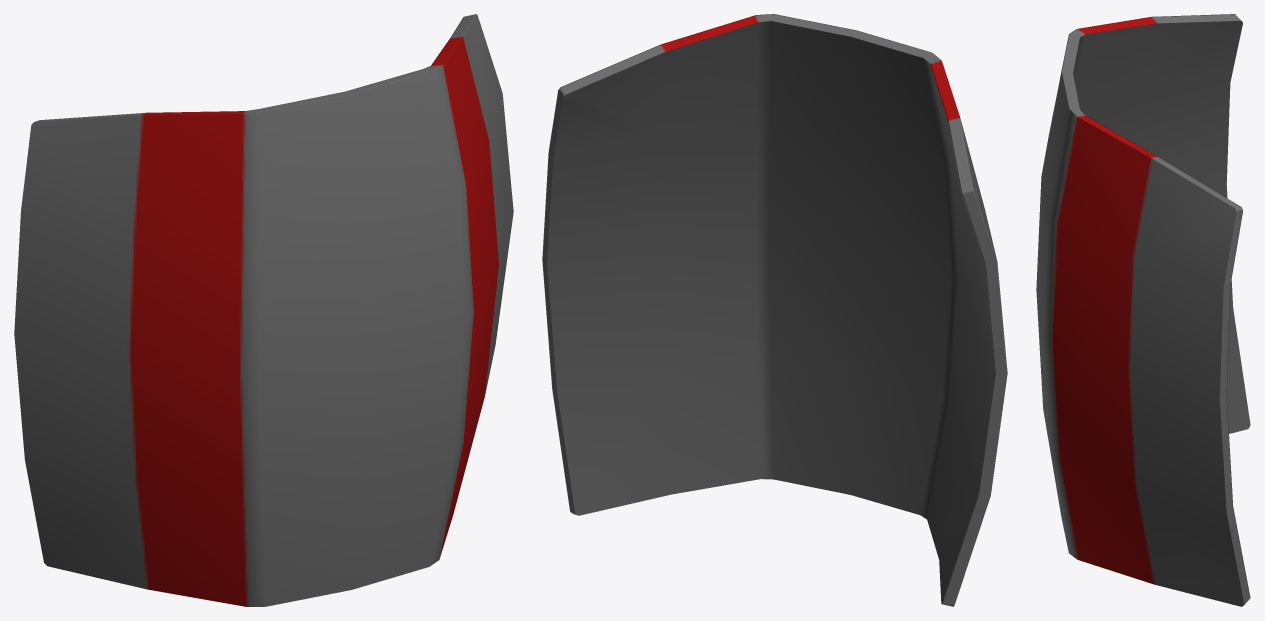
The model's file is DMriotShieldV0.1.fbx.
The picture shows the model from 3 angles, left to right: view 1: azimuth 30°, elevation 25°; view 2: azimuth 150°, elevation 25°; view 3: azimuth 270°, elevation 25°; orthographic projection. The views are drawn at different scales.
Parts seen in each view (by area): view 1: shield; view 2: shield; view 3: shield.
Part boxes in pixels (<box>): shield: <box>14,14,513,606</box>; shield: <box>542,14,1007,606</box>; shield: <box>1036,14,1250,606</box>.
Bounding box in the file's own units: 114 × 108 × 47.13.
1 material, 1 textured.
